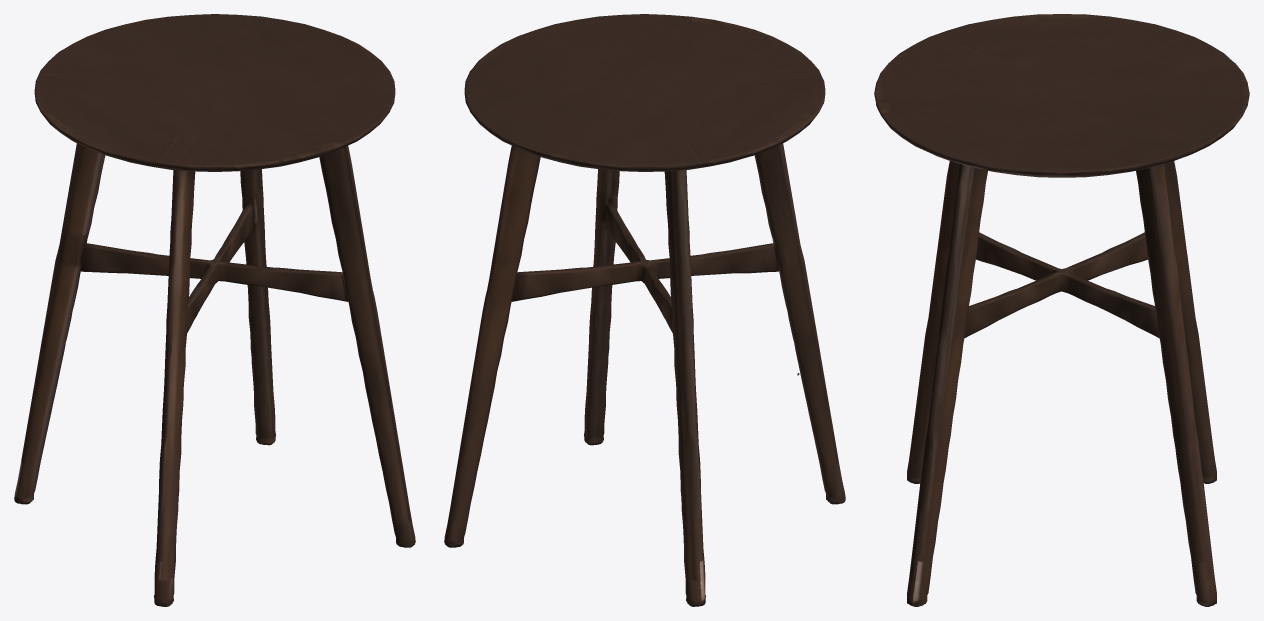
Rendered from Candice_Bar_Table_Wa_0404040903_texture.glb.
The picture shows the model from 3 angles, left to right: view 1: azimuth 30°, elevation 25°; view 2: azimuth 150°, elevation 25°; view 3: azimuth 270°, elevation 25°; orthographic projection. The views are drawn at different scales.
Parts seen in each view (by area): view 1: Mesh_0.010; view 2: Mesh_0.010; view 3: Mesh_0.010.
Boxes of the visible parts, bbox=[...] form: Mesh_0.010: bbox=[14, 14, 415, 606]; Mesh_0.010: bbox=[444, 14, 845, 606]; Mesh_0.010: bbox=[874, 14, 1249, 606].
Size of the model in its own units: 0.8056 by 1.07 by 0.8056.
1 material, 1 textured.
